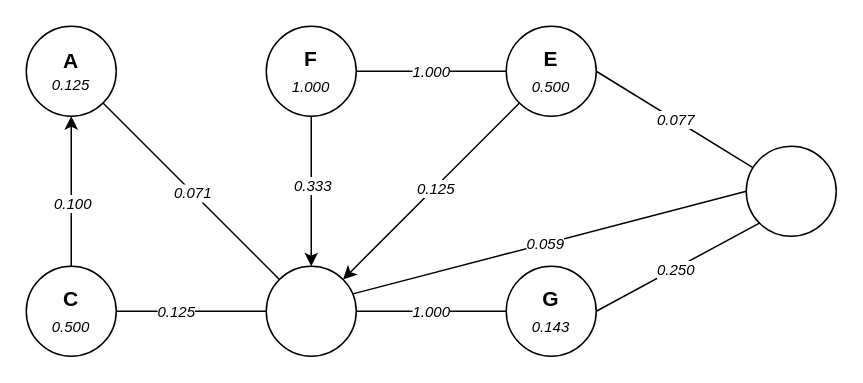
This 863x383 diagram has some shape labels left out. Here are the shapes that lost their labels. From the top down, the centre of each, then its label:
the point at 790,190: D 0.091
the point at 310,310: B 0.167
